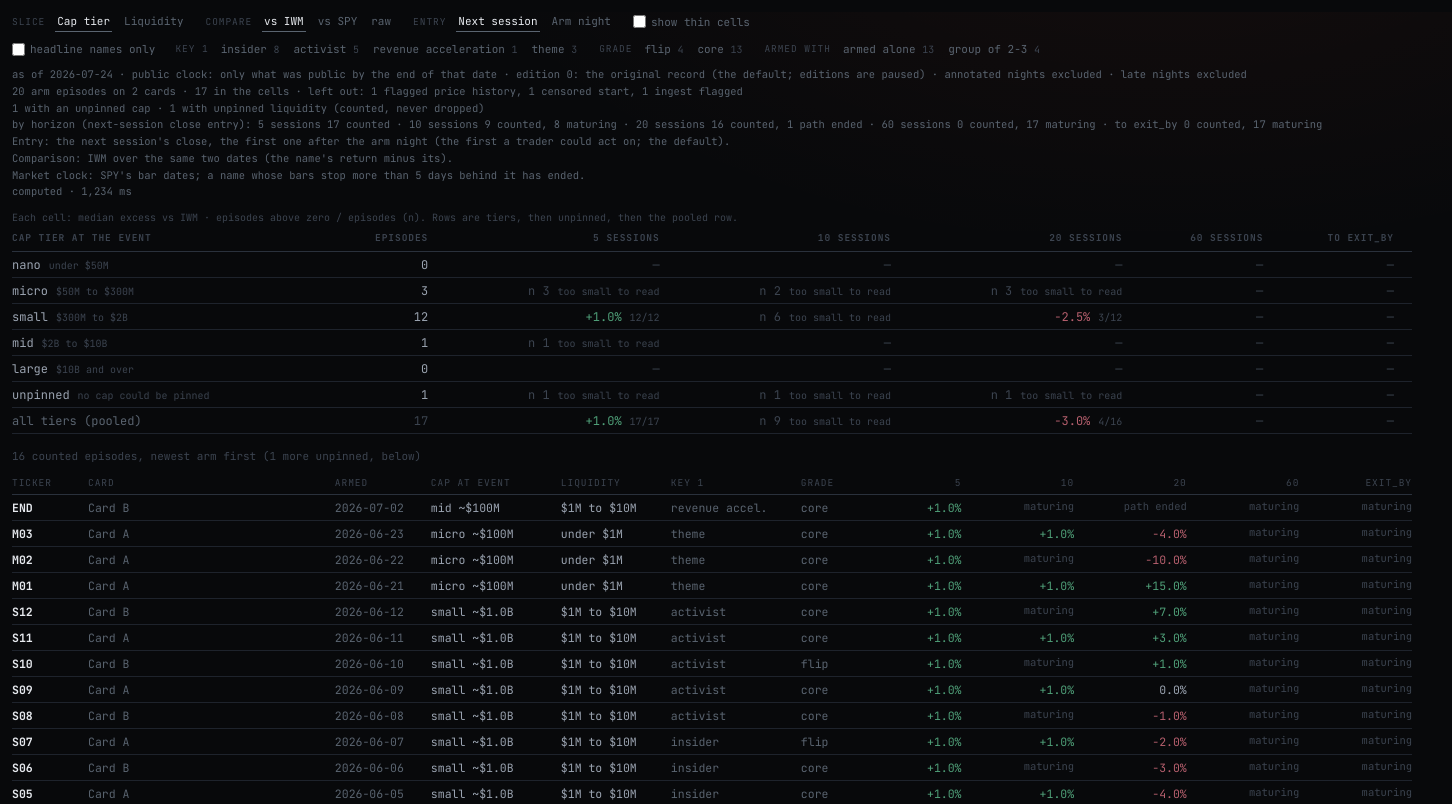
Test: TrackRecord — the toggles re-table the page with no request › narrows to the headline names only
Step 1. Click the checkbox labelled "headline names only" → (18, 49), box [12,43,25,56]
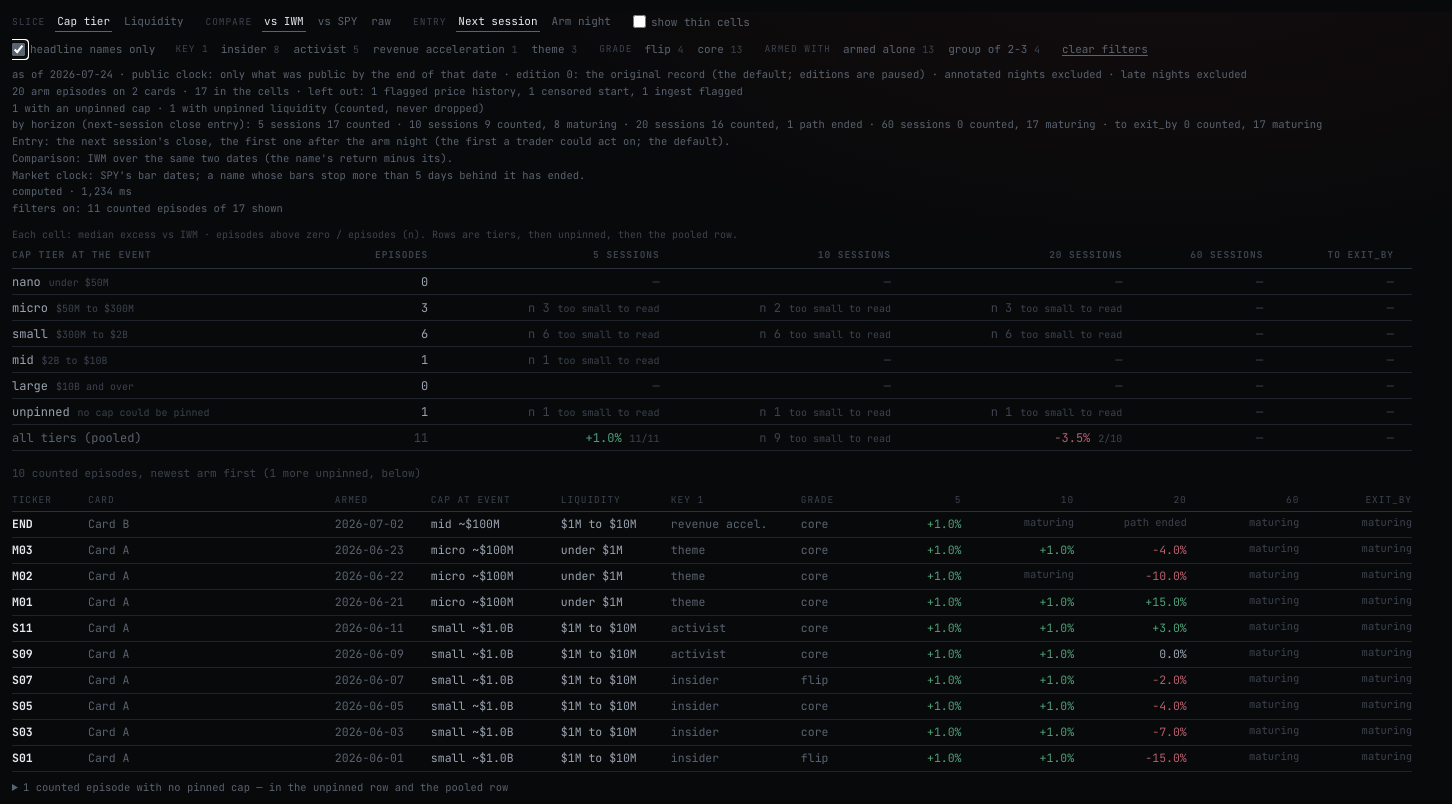
Now the cell "6" is shown, box [336,320,446,346]
